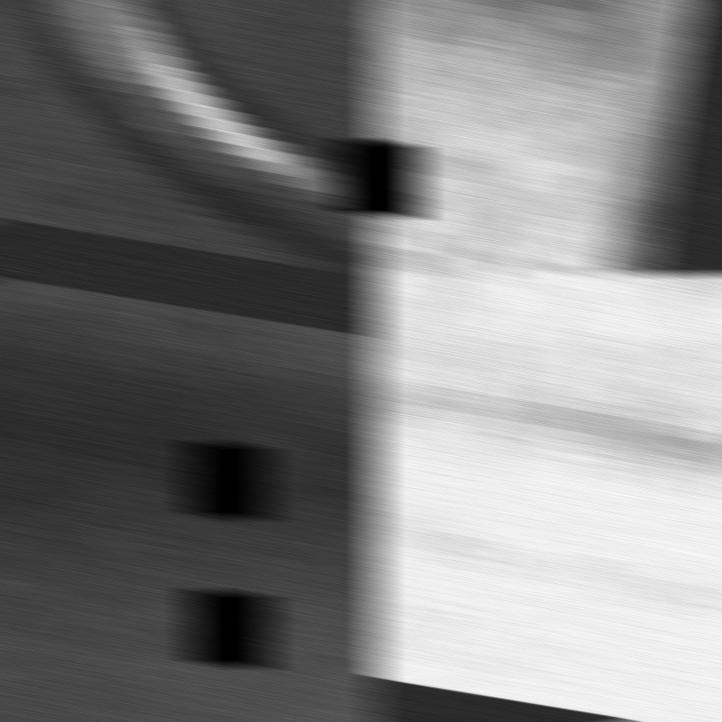Airbag: (0, 273, 382, 722), (0, 0, 382, 275), (368, 0, 722, 275)
